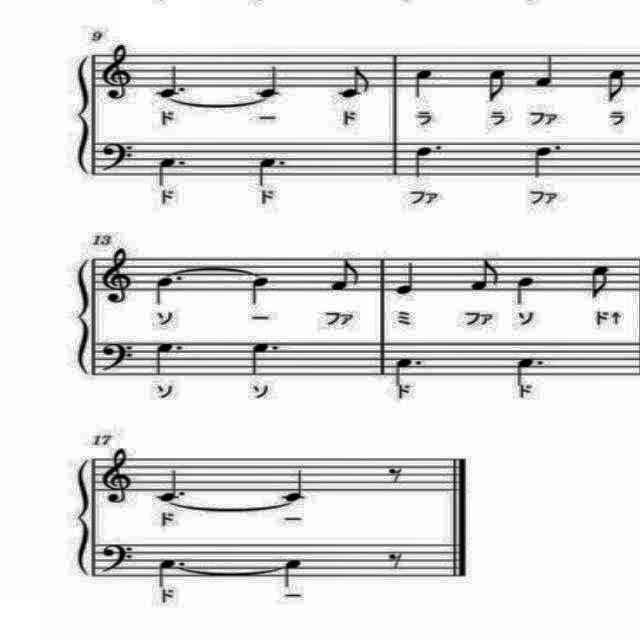Bass-clef: (95, 139, 139, 177), (100, 538, 140, 578), (96, 336, 136, 372)
Eighth-note: (582, 258, 618, 304), (327, 255, 365, 297), (336, 64, 380, 100), (479, 66, 516, 106), (468, 259, 504, 299), (605, 64, 631, 108)
Eighth-rest: (382, 541, 414, 579), (378, 462, 410, 491)
Quarter-dot: (524, 141, 564, 181), (149, 340, 189, 380), (510, 351, 550, 391), (150, 467, 190, 505), (150, 64, 192, 100), (411, 142, 447, 184), (150, 154, 190, 190), (386, 354, 426, 390), (248, 337, 280, 378), (152, 272, 188, 308), (154, 556, 190, 592), (252, 154, 288, 186)
Quarter-note: (391, 256, 422, 298), (528, 50, 560, 90), (411, 67, 441, 105), (252, 60, 280, 100), (282, 468, 312, 504), (510, 274, 540, 306), (251, 274, 277, 308), (281, 555, 305, 589)
Treble-clef: (97, 247, 143, 319), (101, 444, 143, 514), (99, 41, 141, 108)
